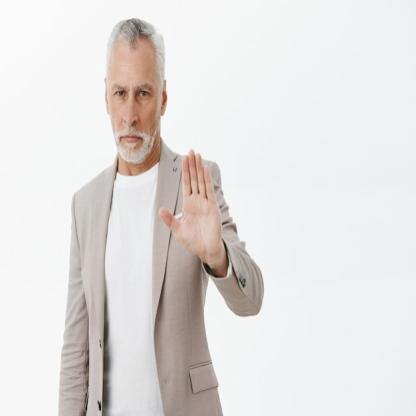stop: (156, 144, 222, 275)
